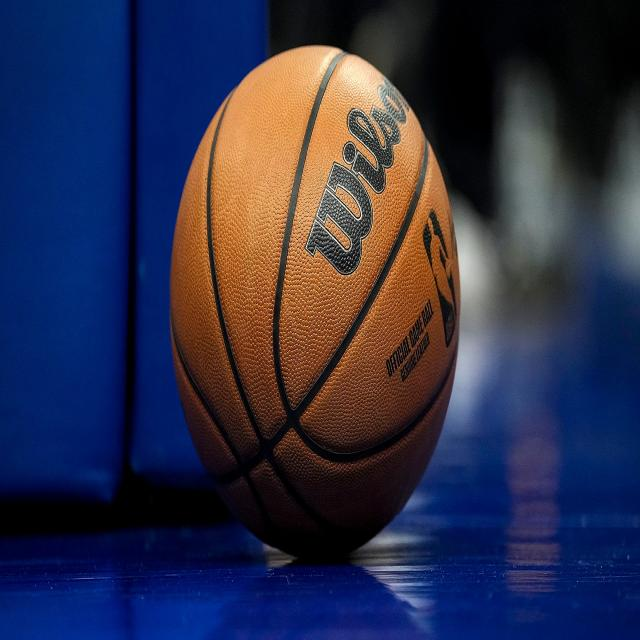basketball: (168, 43, 462, 560)
